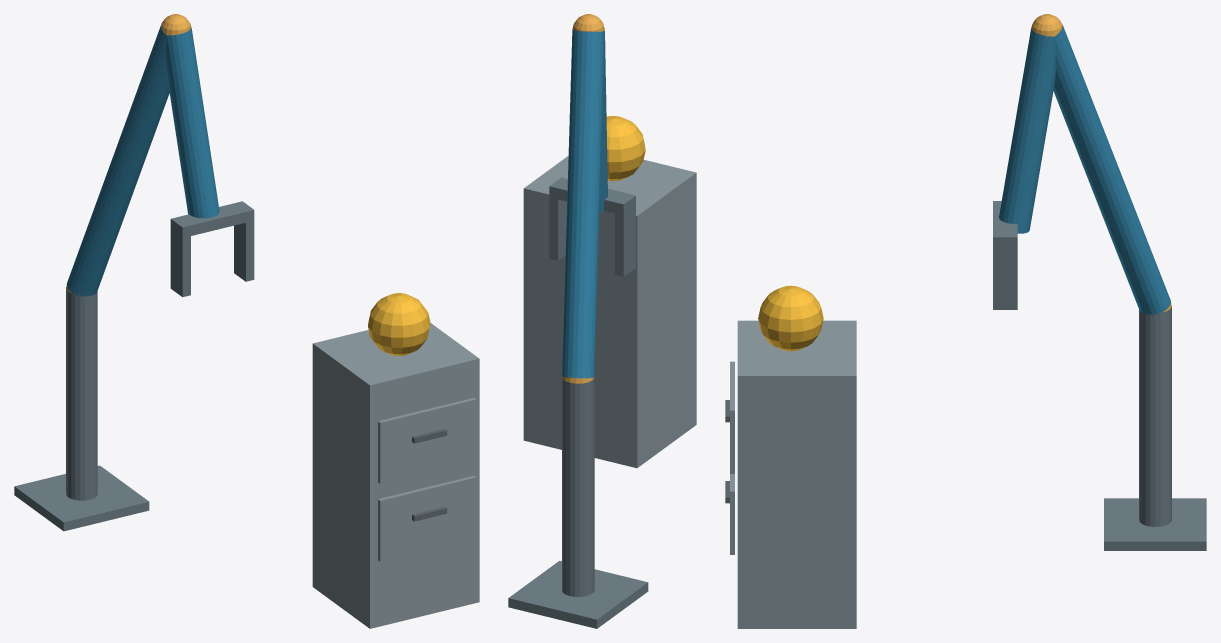
The picture shows the model from 3 angles, left to right: view 1: azimuth 30°, elevation 25°; view 2: azimuth 150°, elevation 25°; view 3: azimuth 270°, elevation 25°; orthographic projection. The views are drawn at different scales.
Parts seen in each view (by area): view 1: cabinet_1 body, moving link 1, fixed post, cabinet_1 drawer front, cabinet_1 drawer front.001, moving link 2, pedestal, ball ball_1, gripper bridge, gripper finger -1, gripper finger 1; view 2: cabinet_1 body, moving link 1, fixed post, pedestal, ball ball_1, gripper finger -1, gripper finger 1, gripper bridge, moving link 2, joint 2; view 3: cabinet_1 body, moving link 1, fixed post, moving link 2, pedestal, ball ball_1, gripper finger 1, gripper bridge.
Part boxes in pixels (x1,y1,x2,y2): cabinet_1 body: (312, 323, 479, 628); moving link 1: (66, 24, 169, 296); fixed post: (66, 287, 97, 500); cabinet_1 drawer front: (378, 475, 476, 561); cabinet_1 drawer front.001: (378, 398, 476, 483); moving link 2: (166, 27, 219, 218); pedestal: (14, 465, 149, 531); ball ball_1: (368, 293, 430, 355); gripper bridge: (170, 201, 254, 237); gripper finger -1: (170, 230, 190, 297); gripper finger 1: (234, 221, 254, 281); cabinet_1 body: (523, 156, 696, 468); moving link 1: (562, 30, 604, 378); fixed post: (562, 377, 594, 596); pedestal: (508, 560, 648, 628); ball ball_1: (606, 116, 645, 181); gripper finger -1: (615, 207, 635, 276); gripper finger 1: (549, 197, 567, 260); gripper bridge: (549, 177, 635, 215); moving link 2: (599, 28, 607, 212); joint 2: (572, 14, 604, 31); cabinet_1 body: (737, 320, 856, 628); moving link 1: (1053, 25, 1170, 315); fixed post: (1139, 306, 1171, 526); moving link 2: (999, 27, 1055, 233); pedestal: (1104, 498, 1206, 550); ball ball_1: (758, 285, 823, 351); gripper finger 1: (993, 248, 1017, 309); gripper bridge: (993, 201, 1017, 248).
Bounding box in the file's own units: 0.6992 × 1.44 × 1.17.
